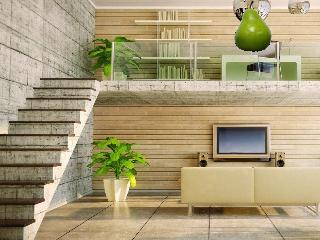pear: (233, 0, 273, 54)
